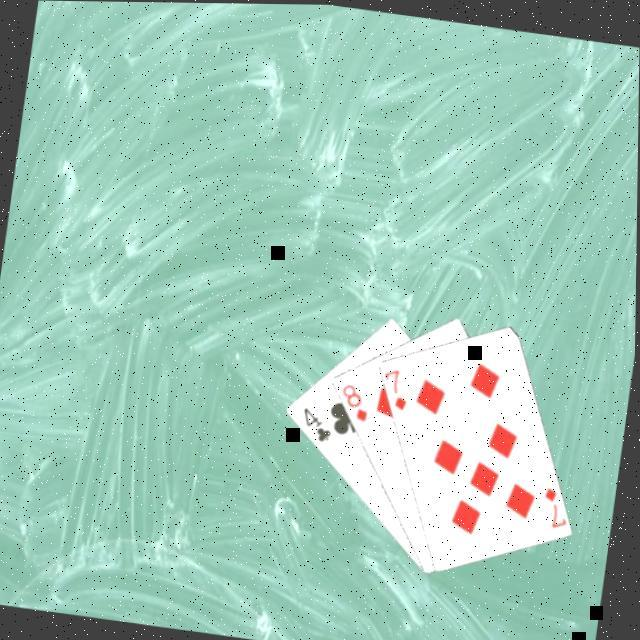4C: (294, 400, 336, 442)
7D: (376, 360, 413, 410), (536, 478, 572, 527)
8D: (334, 375, 374, 421)
